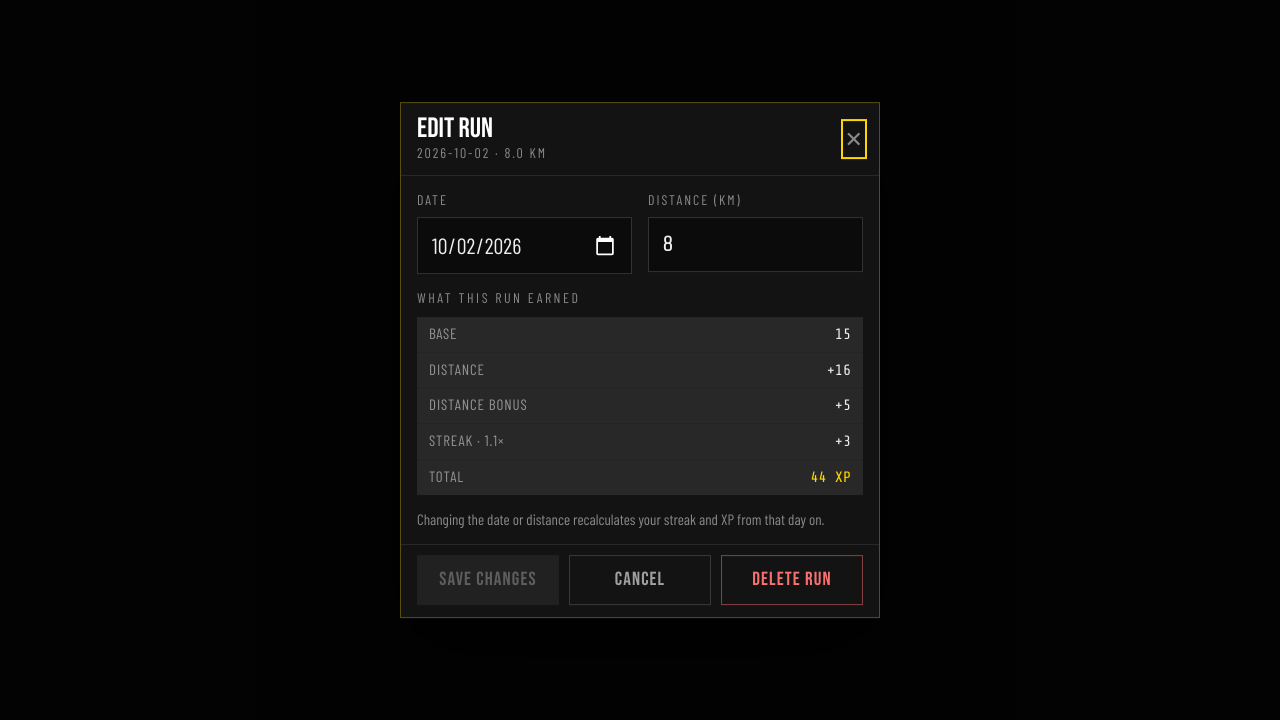
Test case: EditRunSheet — 409 från servern › servern svarar 409 (gammal klient eller kapplöpning): felet visas i arket, ingen krasch, arket förblir öppet
Step 1. Replace the text in the field labelled "Distance (km)" with "9" → (756, 245), box [648, 217, 863, 273]
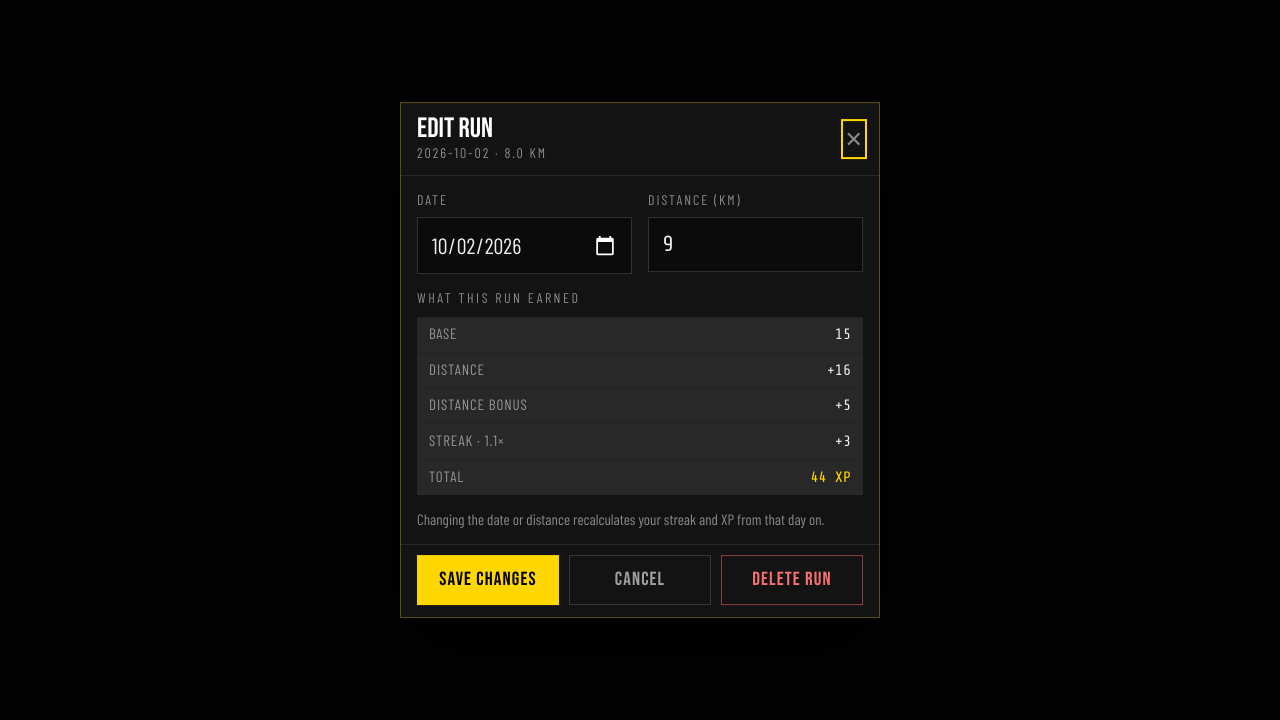
Step 2. Click the button "Save changes" → (488, 580), box [417, 555, 559, 605]
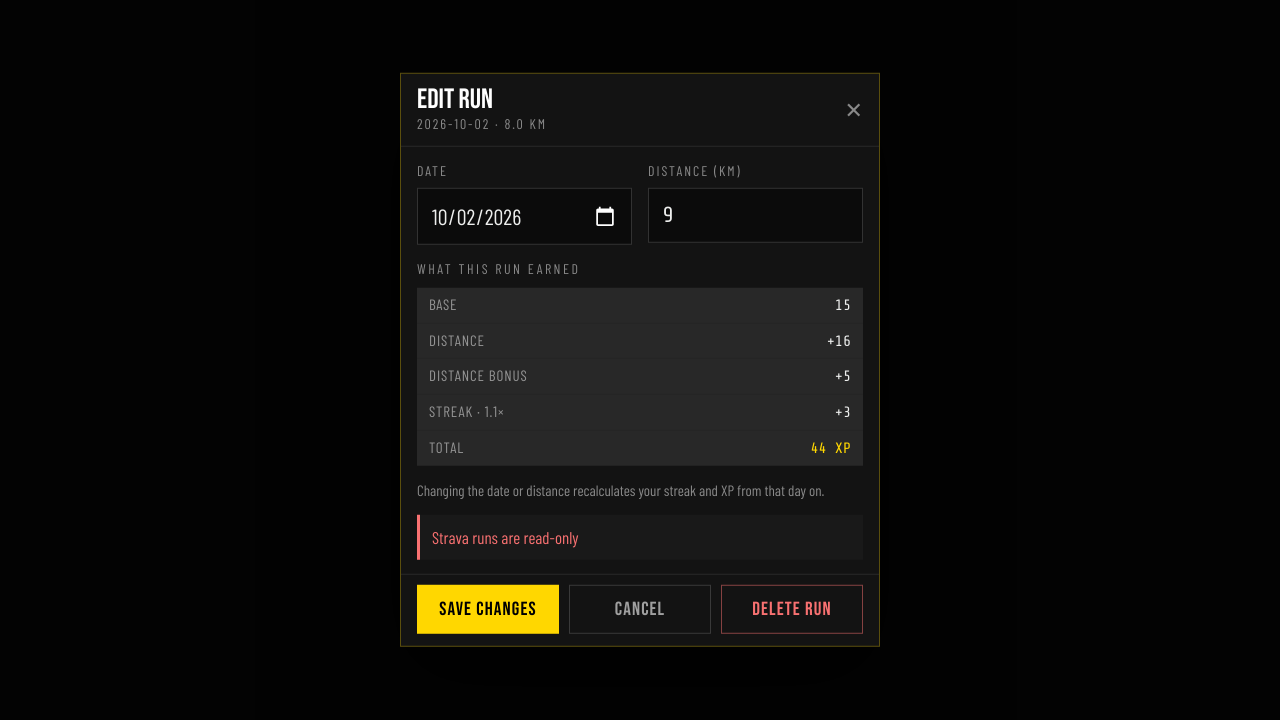
Now the button "Save changes" is enabled, box [417, 585, 559, 634]
Now the message reads "Strava runs are read-only", box [432, 527, 578, 547]
